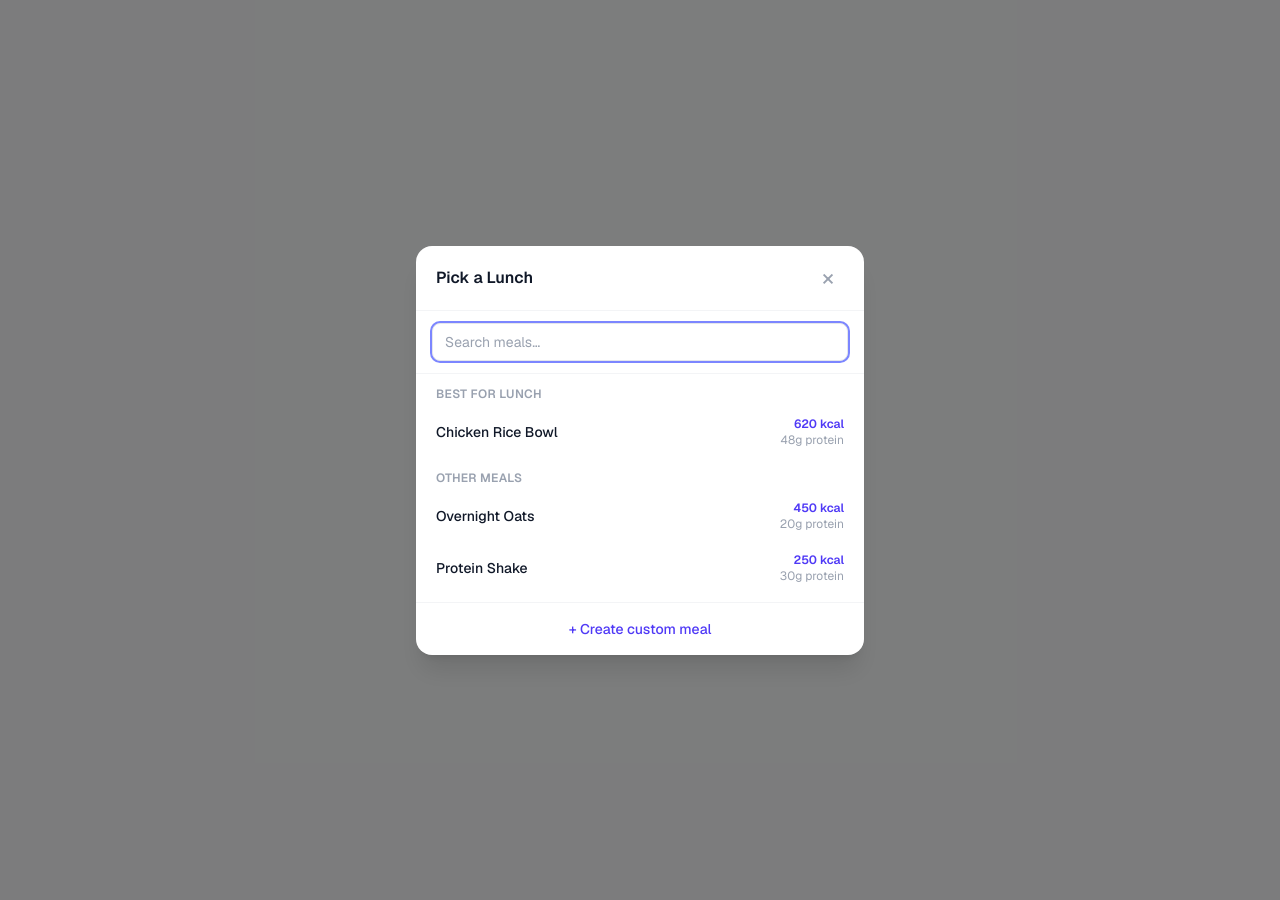
Test: MealPicker › filters meals by search term
This screenshot has width=1280, height=900.
Step 1. Type "oat" into the search field with placeholder "Search meals…" → x=640, y=342, box [432, 322, 848, 360]
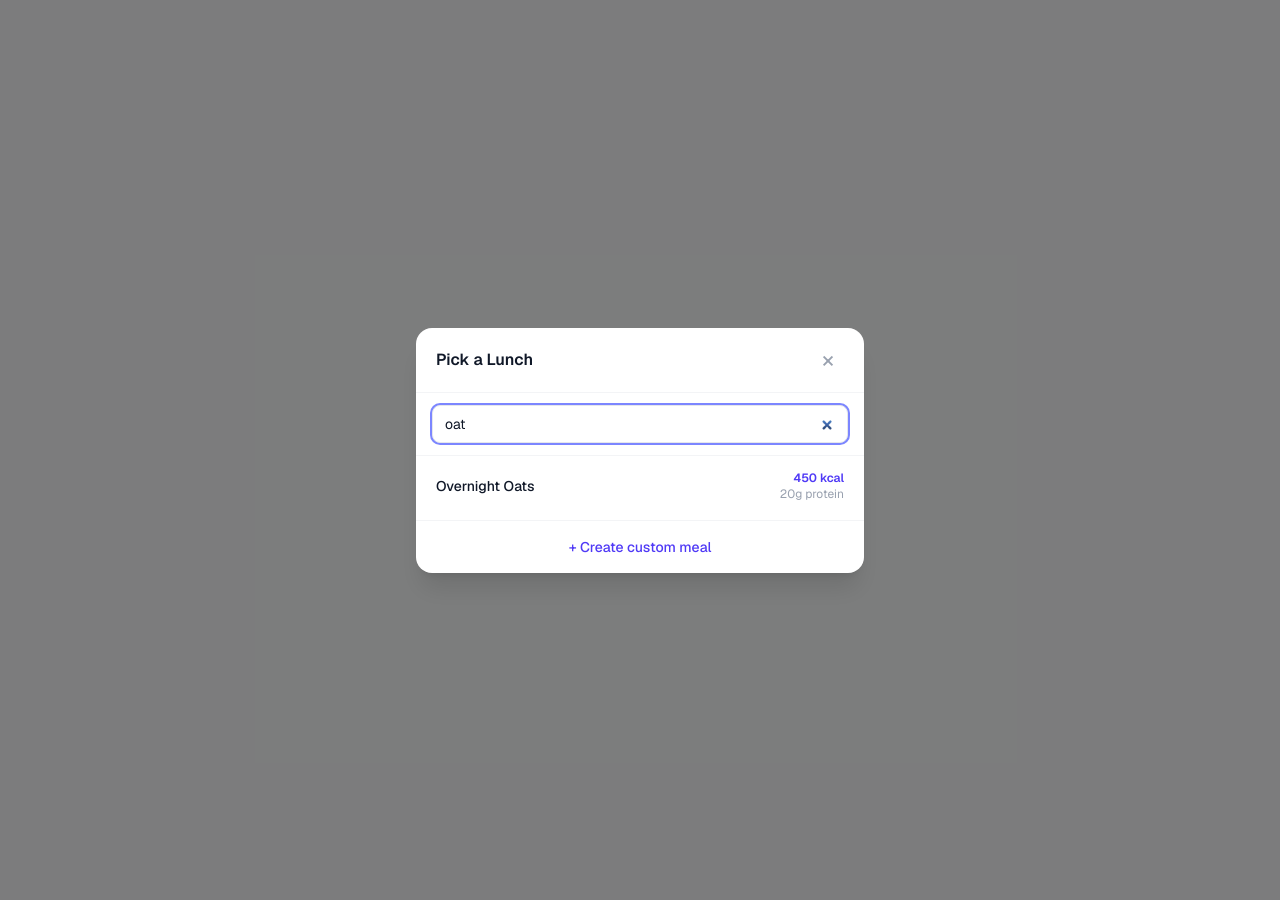
Expected: the text "Overnight Oats" is shown, [436, 476, 534, 494]
Now the button "Chicken Rice Bowl" is gone
